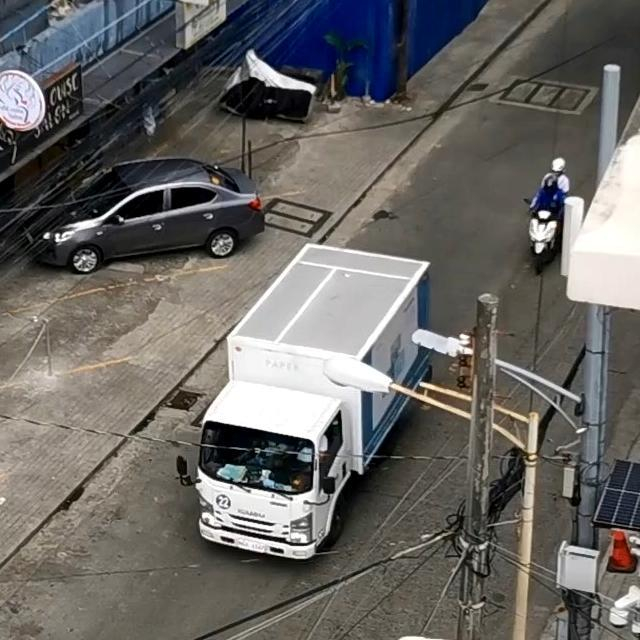Truck: (168, 250, 408, 553)
